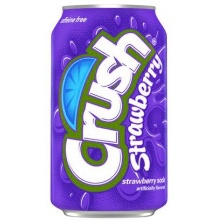can: (45, 4, 174, 218)
